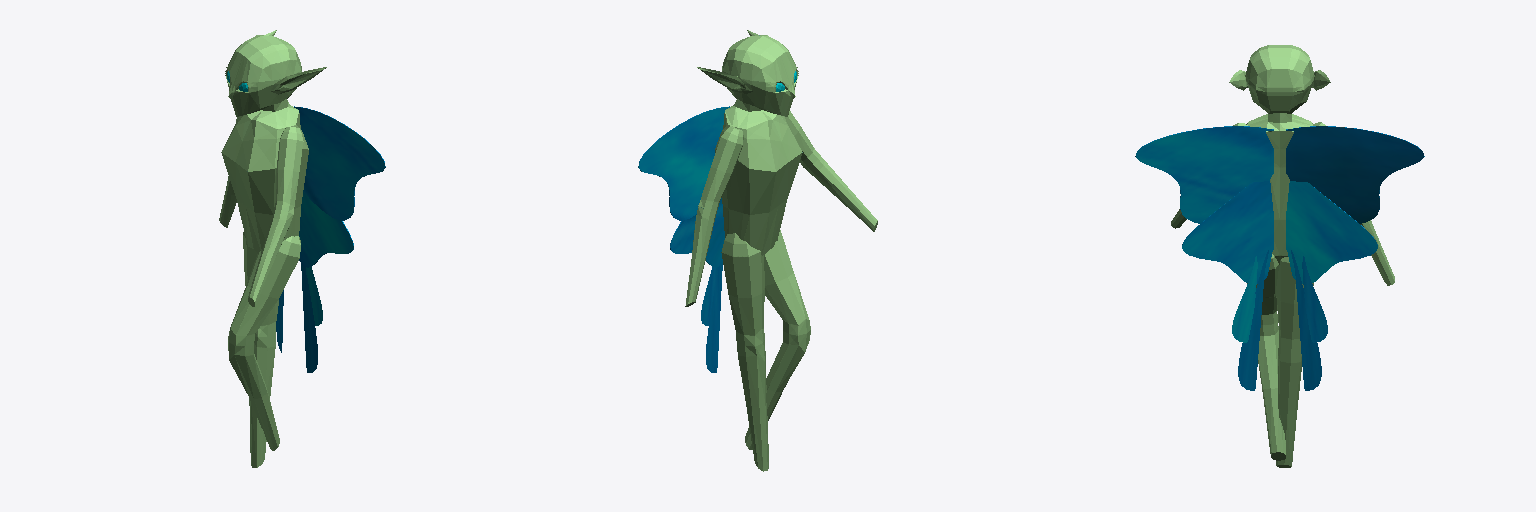
3 renders of one model, left to right at view 1: azimuth 30°, elevation 25°; view 2: azimuth 150°, elevation 25°; view 3: azimuth 270°, elevation 25°, orthographic.
Parts seen in each view (by area): view 1: Cube; view 2: Cube; view 3: Cube.
Part boxes in pixels (bbox=[...]): Cube: bbox=[219, 30, 385, 467]; Cube: bbox=[638, 30, 877, 471]; Cube: bbox=[1135, 45, 1424, 467].
Bounding box in the file's own units: 1.61 × 5.7 × 3.51.
1 materials, 1 textured.